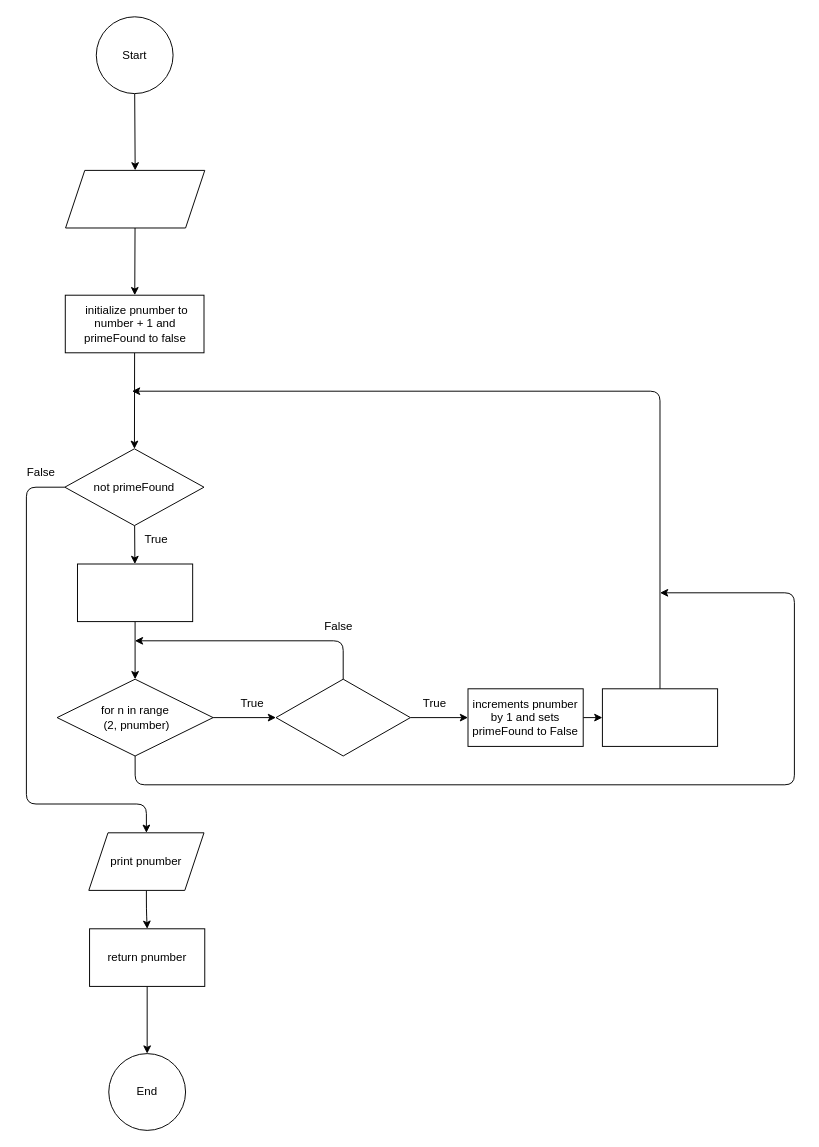
Image size: 819x1147. Some labels were removed from this diagram. The shapes that lost their labels are listed below. From the top down, each one's centre as x and y in pixels, then its label:
the point at 135,198: collects input for variable number
the point at 135,592: set primeFound to True
the point at 342,717: pnumber % n == 0
the point at 659,717: break
